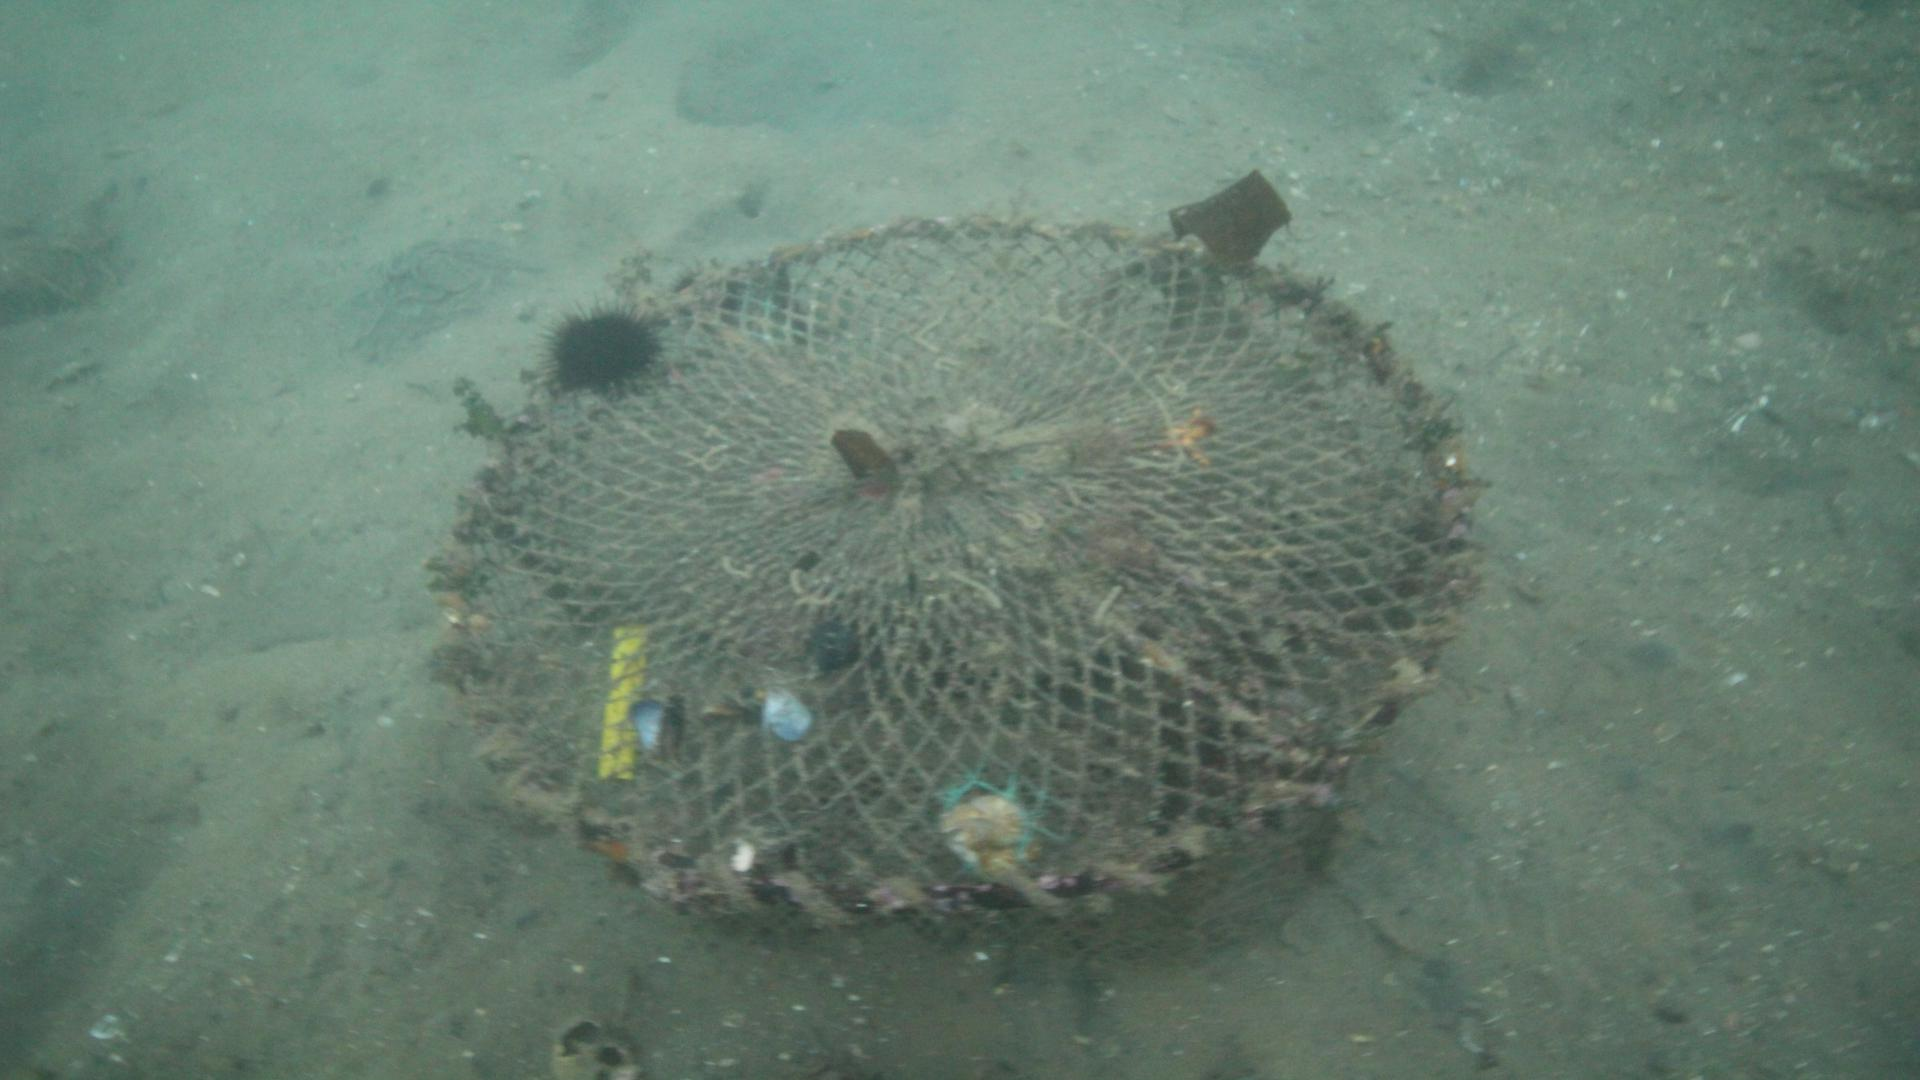circular fish trap: (440, 215, 1474, 924)
